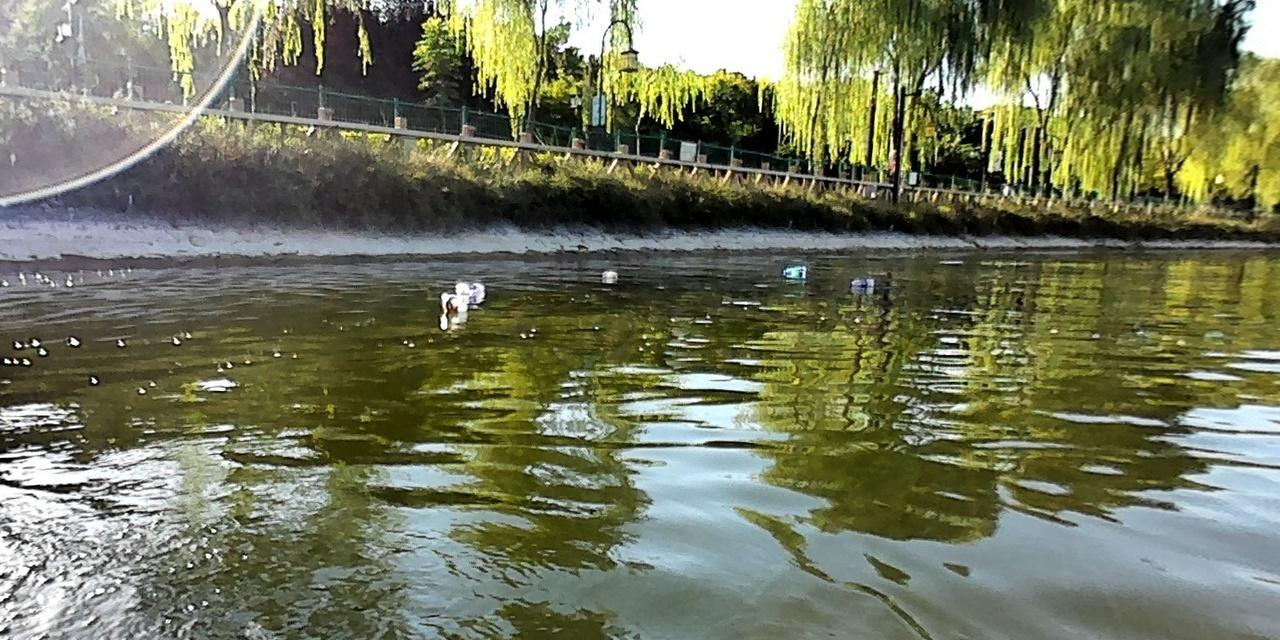bottle: (435, 293, 470, 314), (778, 261, 810, 277), (451, 277, 485, 292), (845, 276, 876, 288), (598, 266, 618, 280)
